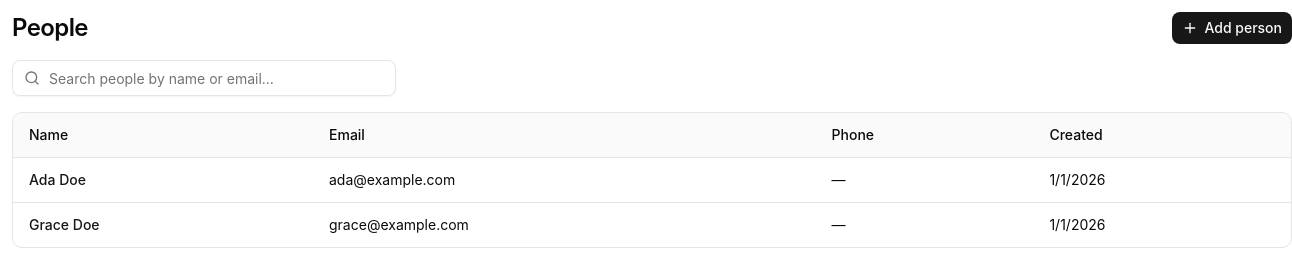
Test case: PeoplePage › filters the list via the search box
Expected: the link "Ada Doe" is shown, [29, 171, 86, 188]
Expected: the link "Grace Doe" is shown, [29, 216, 100, 233]
Type "grace" into the search field labelled "Search people by name or email" at [204, 78], box [12, 60, 396, 96]
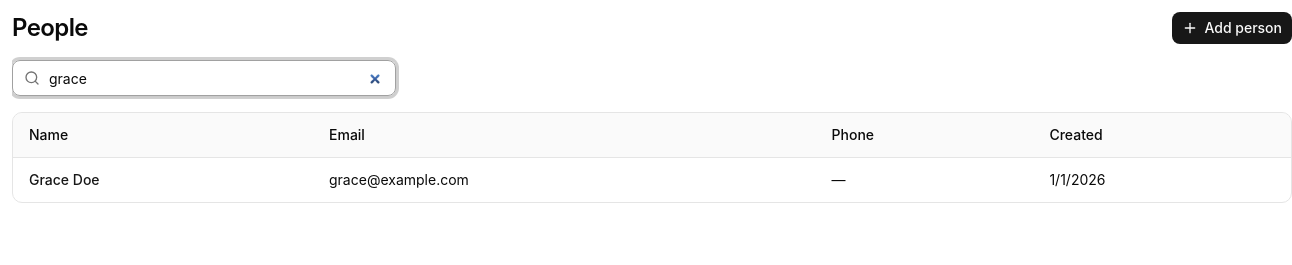
Now the link "Grace Doe" is shown, box [29, 171, 100, 188]
Now the link "Ada Doe" is gone
